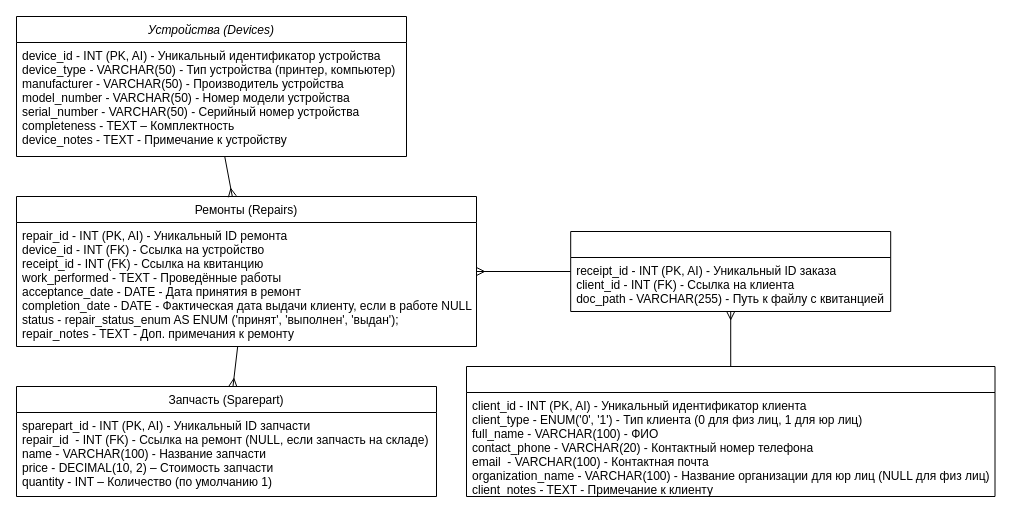
Image size: 1011x513. Some labels were removed from this diagram. The shapes that lost their labels are listed below. From the top down, each one's box as (x1, y1, x2, y2) in pixels, then its label:
(570, 230, 891, 312): Квитанции (Receipts)
(466, 366, 995, 496): Клиенты (Clients)
